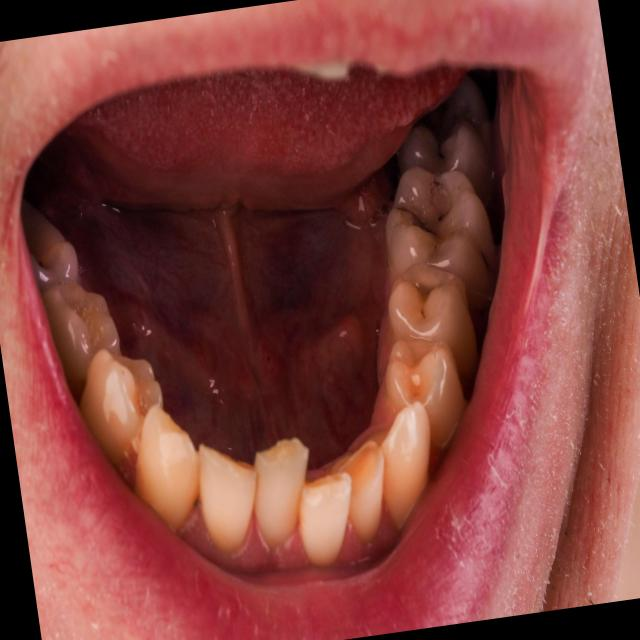Caries: (397, 207, 419, 221), (426, 227, 434, 233), (439, 216, 443, 220)
Tooth: (387, 167, 493, 310), (388, 263, 477, 374), (79, 349, 163, 462), (385, 339, 465, 446), (364, 402, 431, 527), (135, 406, 198, 531), (42, 284, 121, 378), (199, 444, 258, 553), (254, 438, 308, 545), (330, 442, 384, 541), (299, 472, 352, 565)
